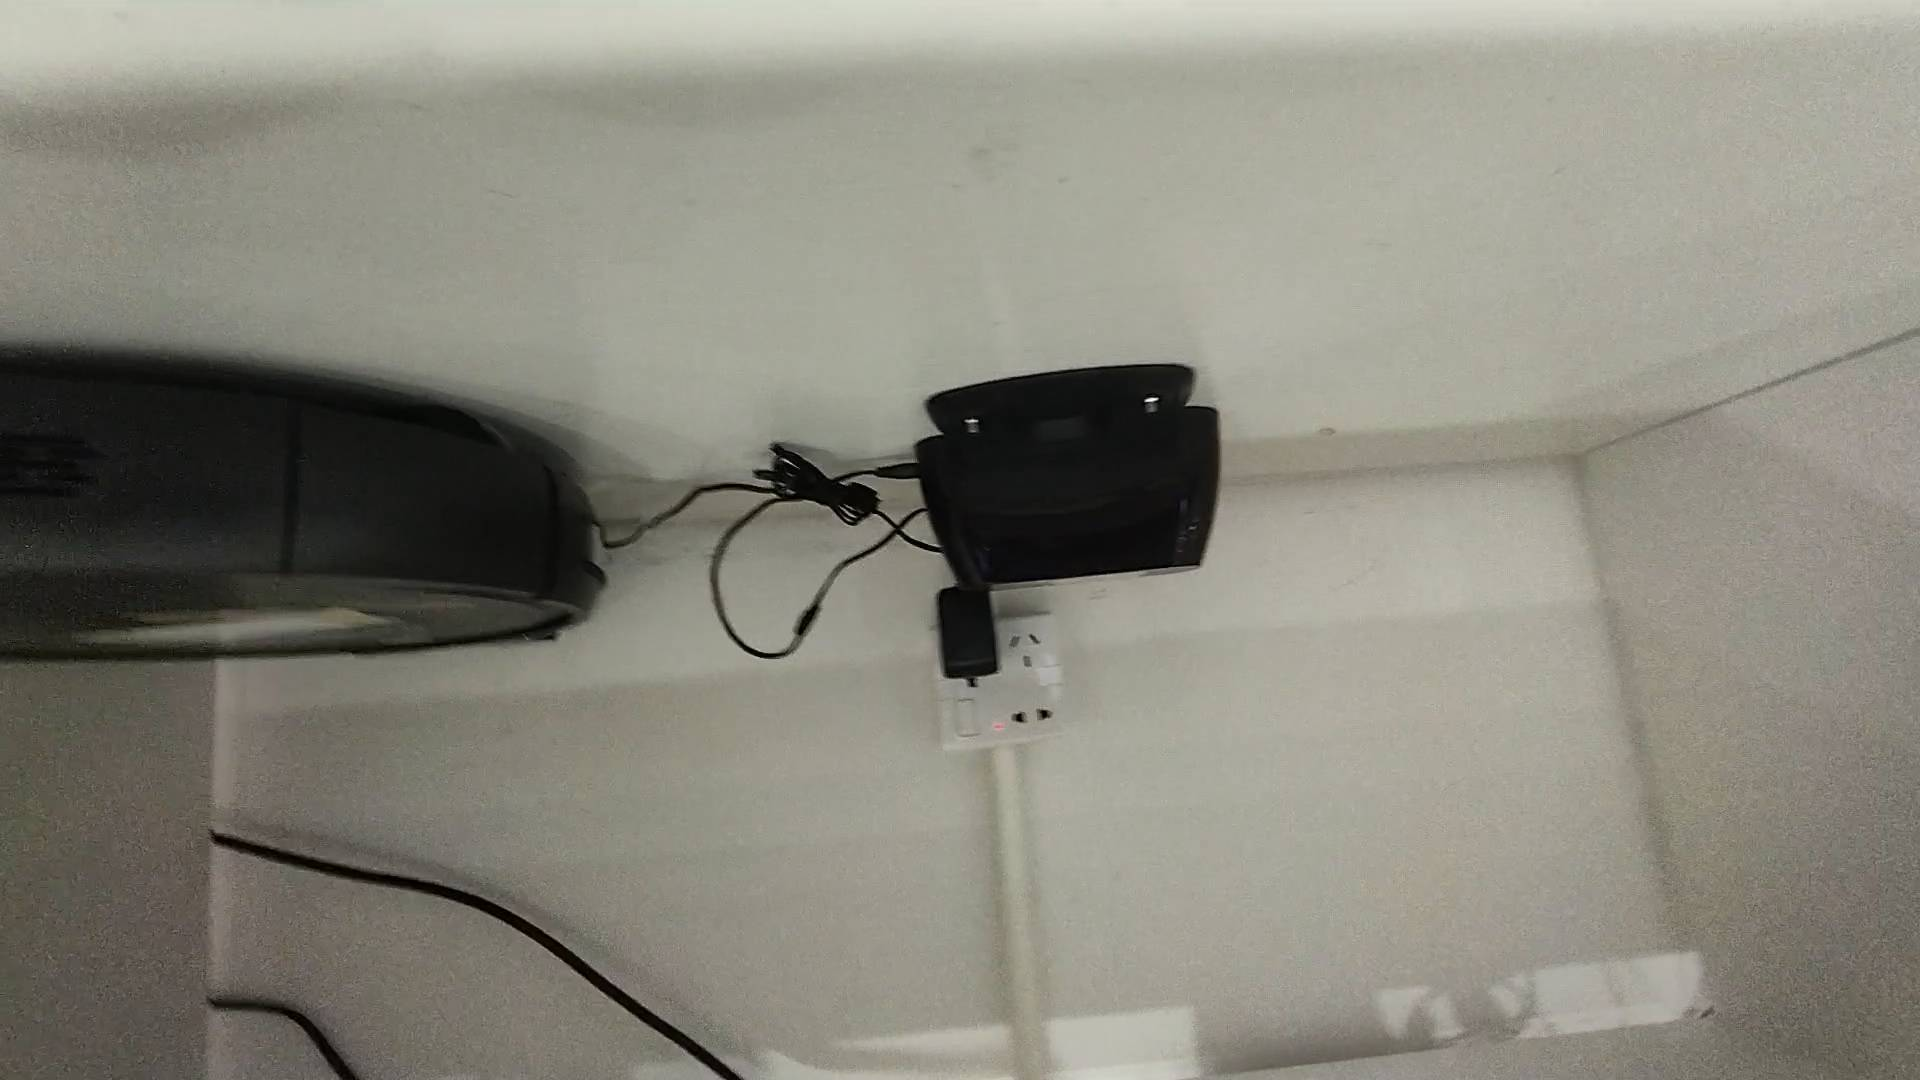recharge seat: (914, 361, 1224, 589)
